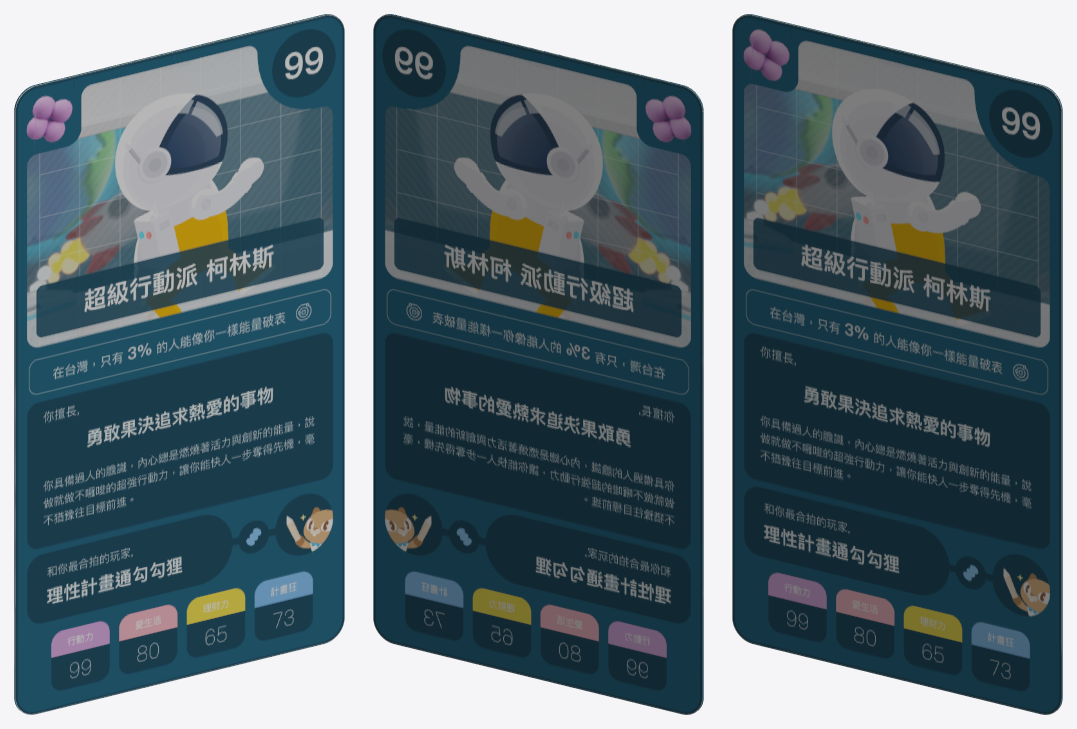
The model's file is Brightness90.glb.
The picture shows the model from 3 angles, left to right: view 1: azimuth 30°, elevation 25°; view 2: azimuth 150°, elevation 25°; view 3: azimuth 330°, elevation 25°; orthographic projection.
Visible parts, largest first — view 1: 形狀_1_4; view 2: 形狀_1_4; view 3: 形狀_1_4.
Part boxes in pixels (left/top/right/bottom): 形狀_1_4: left=14, top=14, right=344, bottom=714; 形狀_1_4: left=373, top=14, right=703, bottom=714; 形狀_1_4: left=732, top=14, right=1062, bottom=714.
Bounding box in the file's own units: 1.5 × 2.74 × 0.00806.
Materials: 1 (1 with a texture image).
